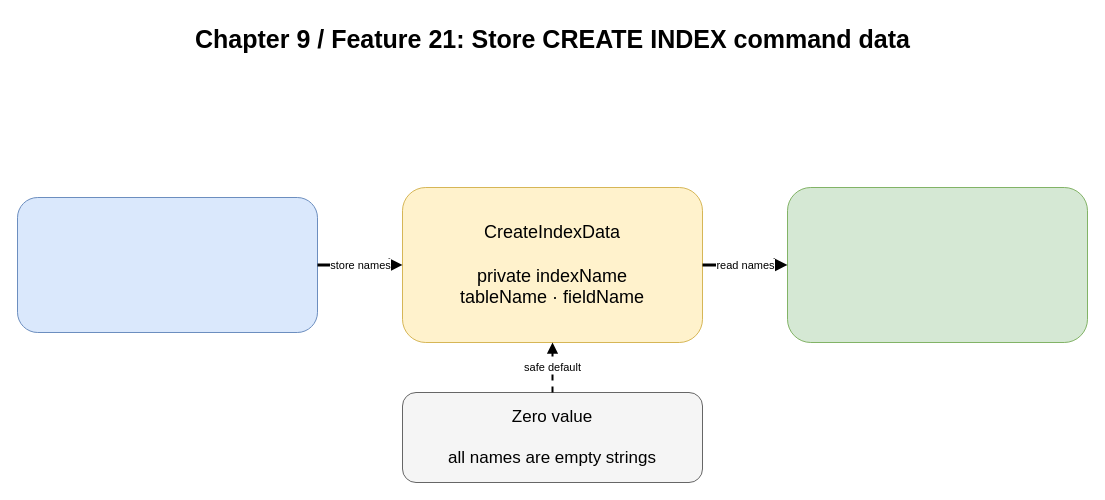
This 1105x500 diagram has some shape labels left out. The shapes that lost their labels are listed below. From the top down, each one's centre as x and y in pixels, then its label:
the point at 167,264: Constructor input index: student_name_idx table: student · field: name
the point at 937,264: Read-only accessors IndexName() TableName() · FieldName()
